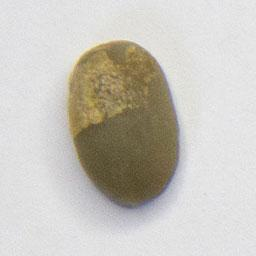premium: (63, 37, 182, 211)
